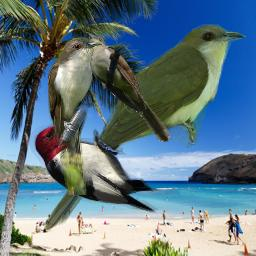Cuckoo: (44, 24, 246, 234), (86, 32, 170, 142), (48, 32, 103, 195)
Woodpecker: (28, 111, 162, 213)
